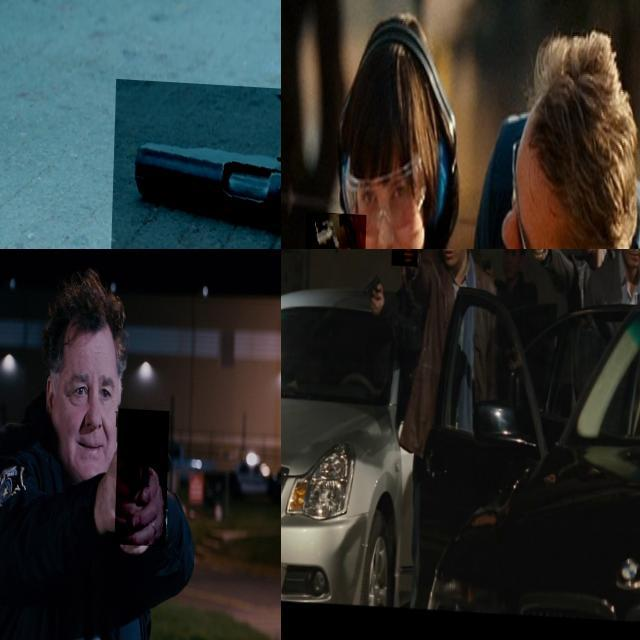gun-knife-thesis - v11 Yolov5 augmented: (113, 76, 281, 249), (116, 405, 171, 543), (305, 208, 368, 249), (364, 269, 386, 308), (392, 249, 419, 274), (529, 249, 549, 270), (281, 250, 289, 286)
